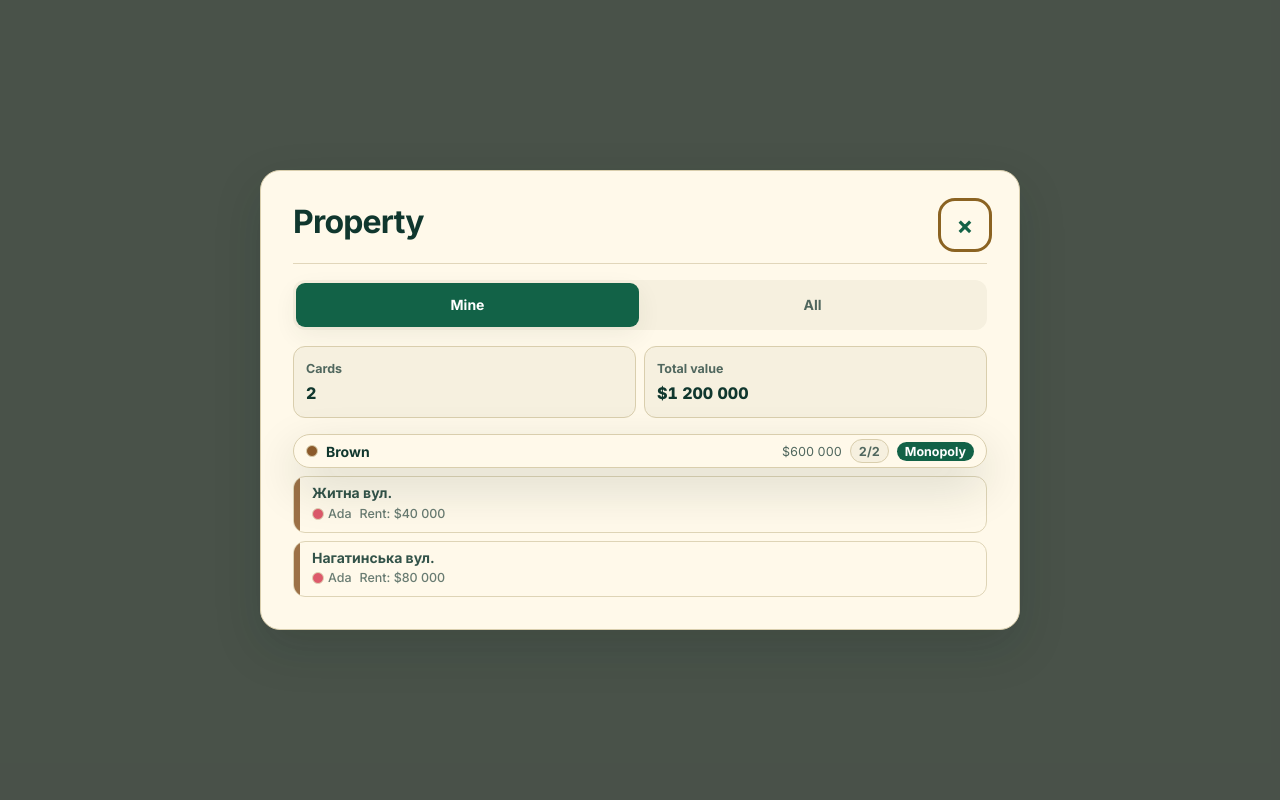
PropertyScreen › opens a read-only card with the current rent level highlighted
The width and height of the screenshot is (1280, 800).
Click the button "Житна вул. Ada Rent: $40 000": coordinates (352, 493) [293,476,987,532]
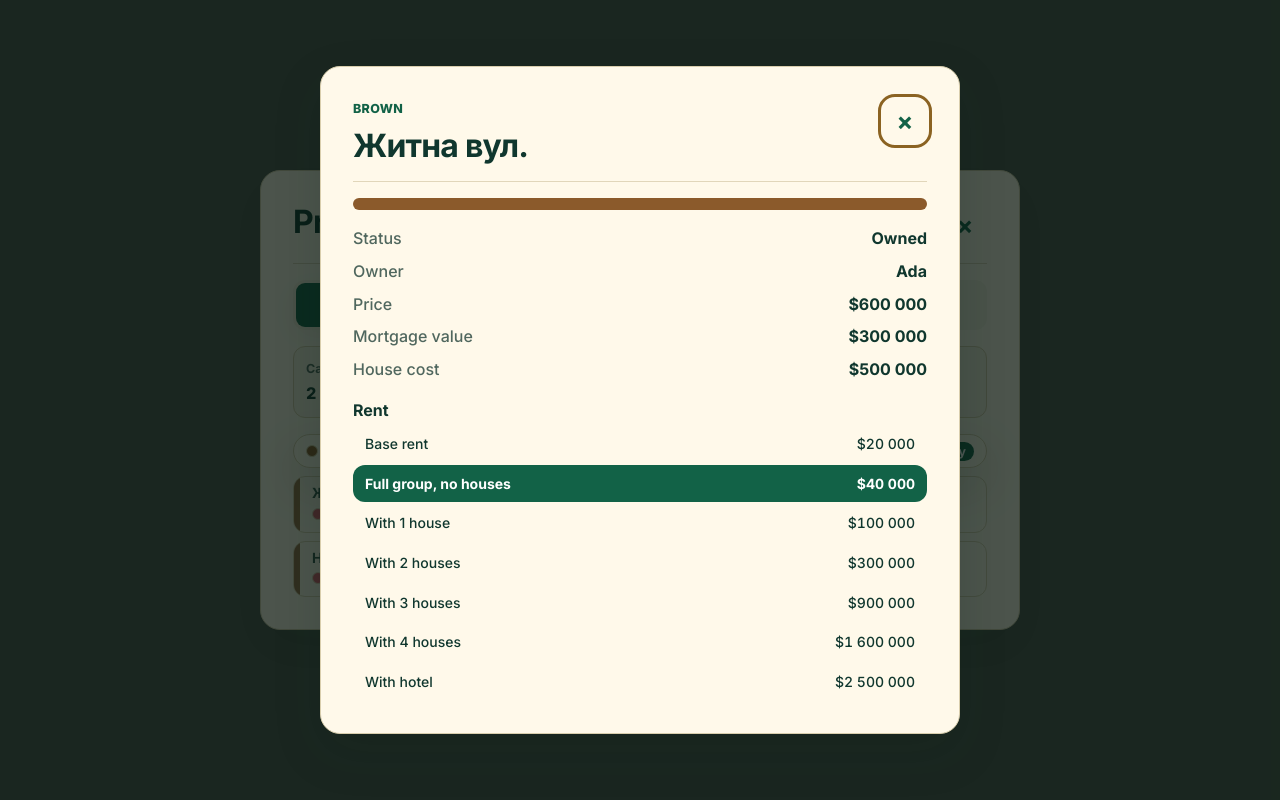
Expected: the list item "Full group, no houses $40 000" is shown, [353,464,927,502]
